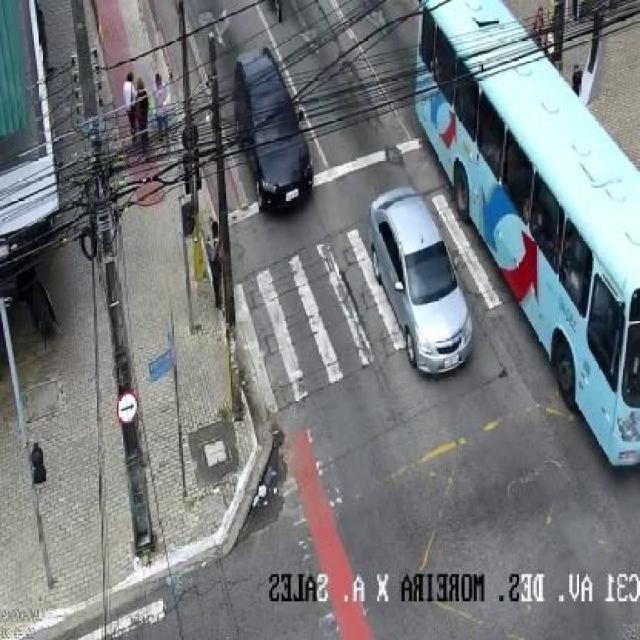Bus: (409, 0, 640, 471)
Car: (367, 184, 476, 378), (232, 45, 318, 216)
